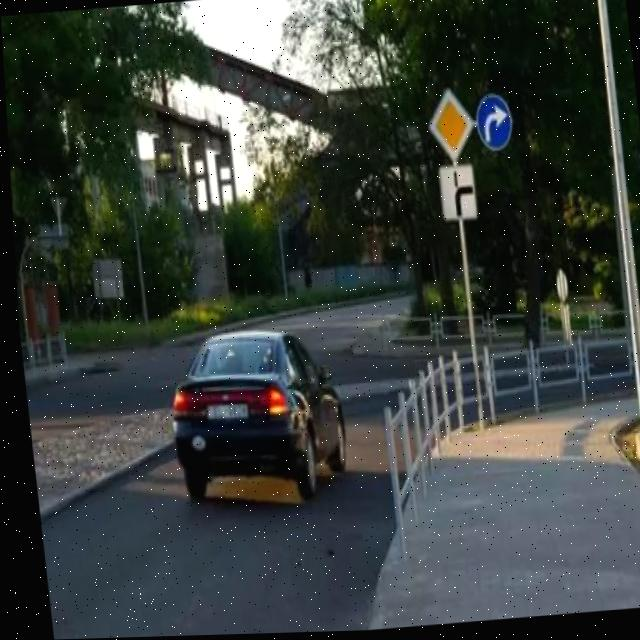signs: (423, 90, 476, 166)
